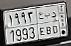1: (8, 13, 15, 43)
3: (28, 11, 36, 42)
9: (14, 12, 21, 42), (21, 11, 28, 40)
B: (45, 12, 51, 38)
D: (52, 10, 58, 36)
E: (38, 11, 45, 35)
